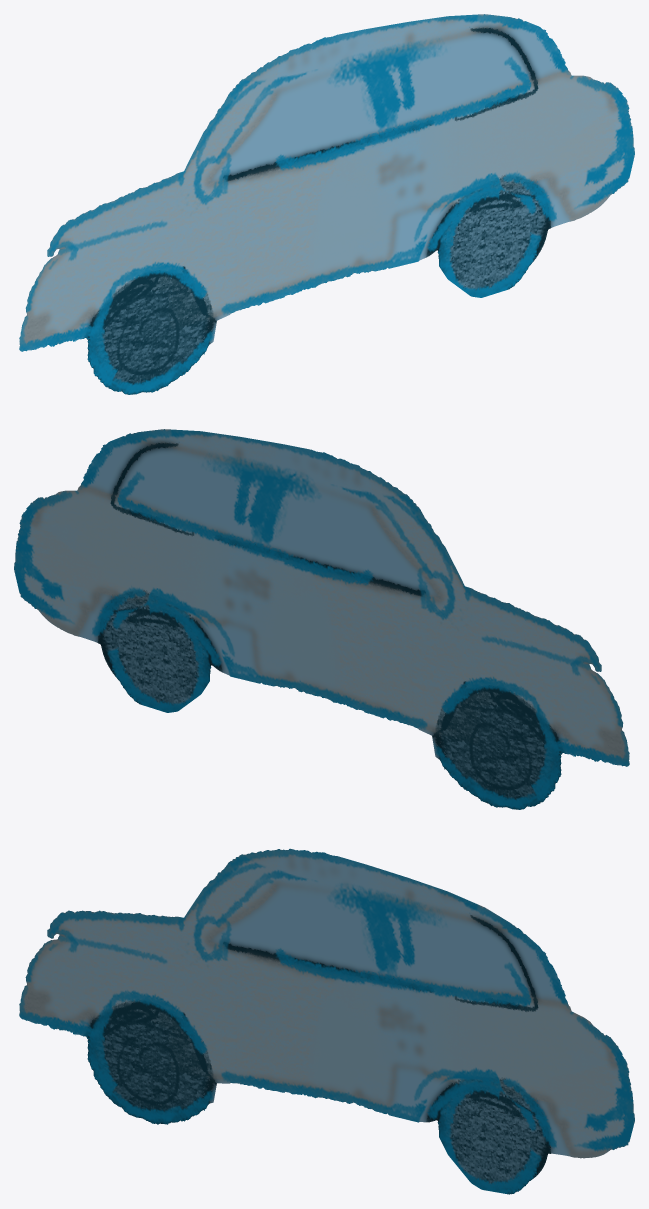
The model's file is car.fbx.
3 renders of one model, top to bottom at view 1: azimuth 30°, elevation 25°; view 2: azimuth 150°, elevation 25°; view 3: azimuth 330°, elevation 25°, orthographic.
Visible parts, largest first — view 1: car11; view 2: car11; view 3: car11.
Part boxes in pixels (<box>): car11: <box>19,14,634,394</box>; car11: <box>14,429,629,809</box>; car11: <box>19,848,634,1194</box>.
Size of the model in its own units: 12.24 by 5.99 by 2.98e-08.
Materials: 1 (1 with a texture image).
